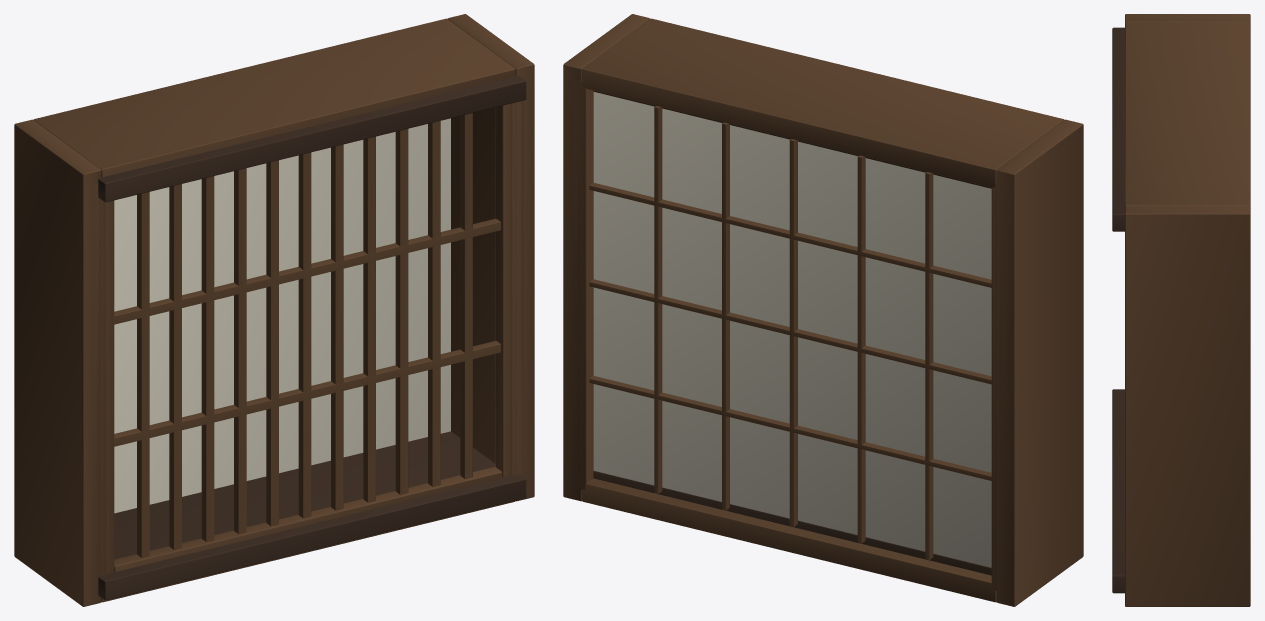
File: kominka-casement-window-01.glb
The picture shows the model from 3 angles, left to right: view 1: azimuth 30°, elevation 25°; view 2: azimuth 150°, elevation 25°; view 3: azimuth 270°, elevation 25°; orthographic projection. The views are drawn at different scales.
Visible parts, largest first — view 1: kominka-casement-window-01; view 2: kominka-casement-window-01; view 3: kominka-casement-window-01.
Boxes of the visible parts, bbox=[...] form: kominka-casement-window-01: bbox=[14, 14, 534, 606]; kominka-casement-window-01: bbox=[563, 14, 1083, 606]; kominka-casement-window-01: bbox=[1112, 14, 1250, 606].
Size of the model in its own units: 1.2 by 1.1 by 0.35.
